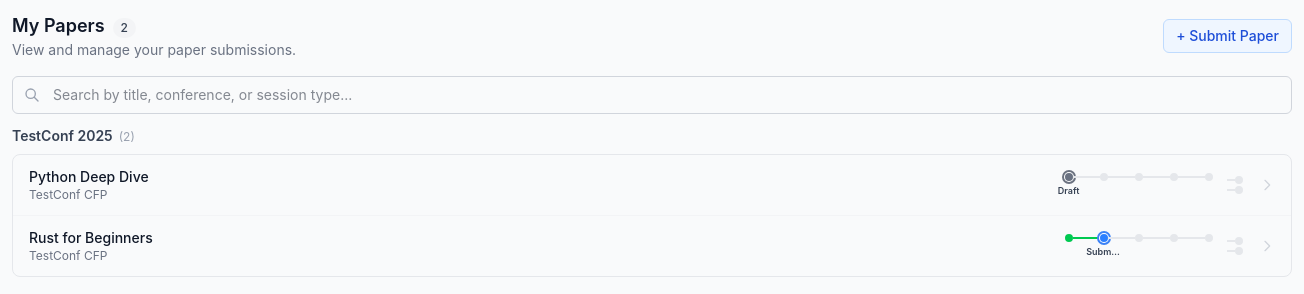
DashboardPage › search functionality › filters papers by title when searching
Type "Python" into the field with placeholder "Search by title, conference, or session type..." at (652, 95), box top-left (12, 76), bottom-right (1292, 114)
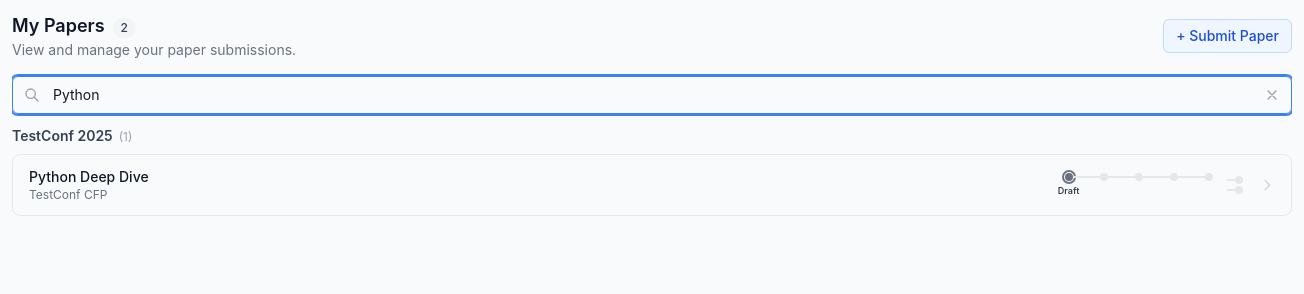
Check: the text "Python Deep Dive" is shown, box top-left (29, 167), bottom-right (149, 187)
Check: the link "Rust for Beginners" is gone
